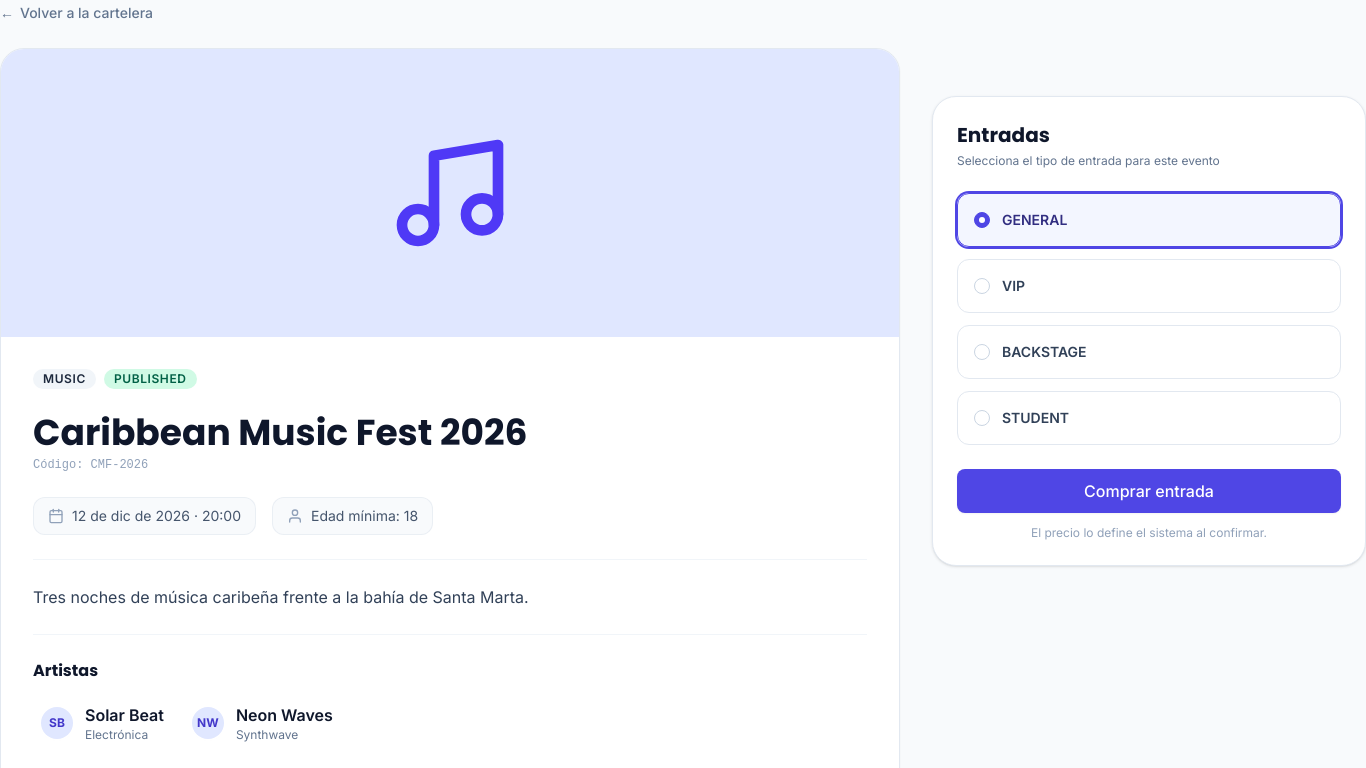
Scenario: Tickets y Compra › TEST-FE-TKT-003: error 409 por regla de negocio se muestra dentro del modal
Click the button "Comprar entrada".
click(1149, 491)  # box [957,469,1341,513]
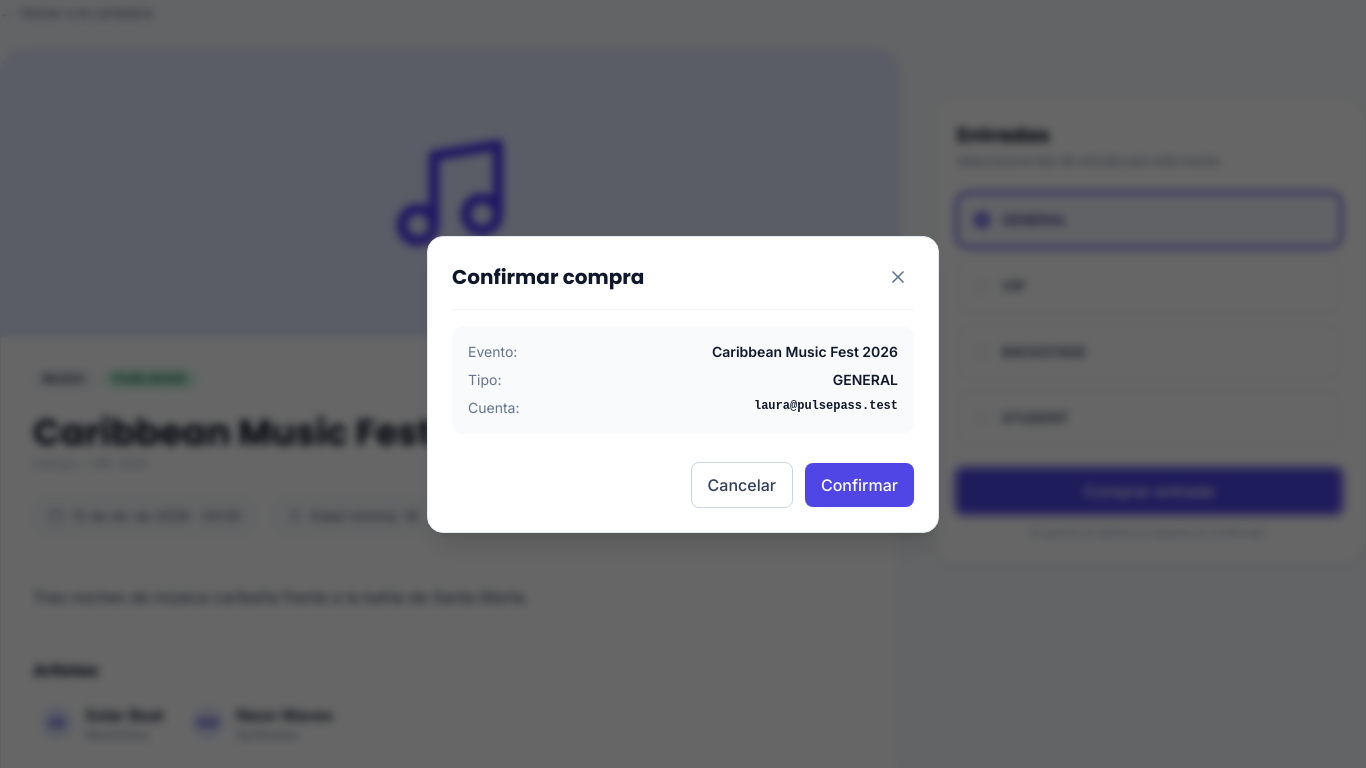
Click the button "Confirmar".
click(860, 484)  # box [805,462,914,506]
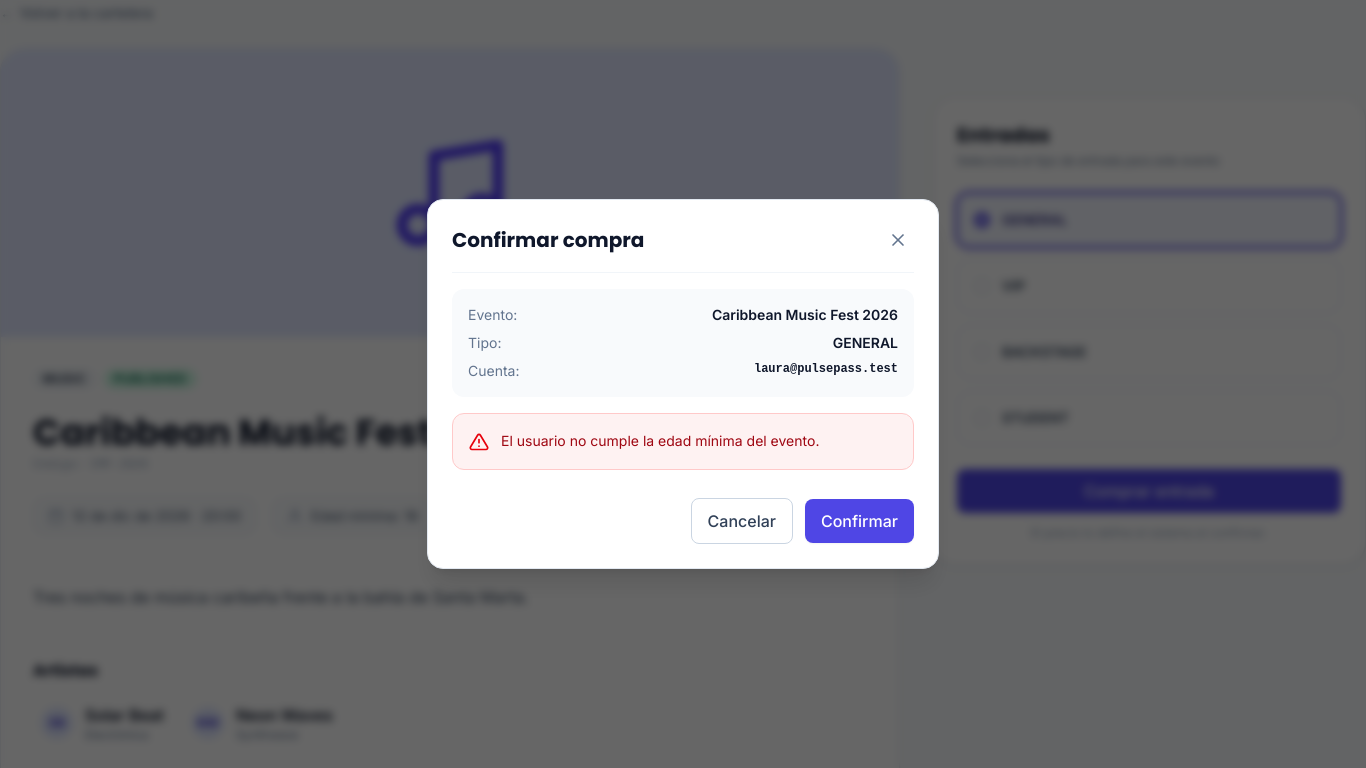
expect the text "El usuario no cumple la edad mínima del evento." is shown: met, box [501,432,819,449]
